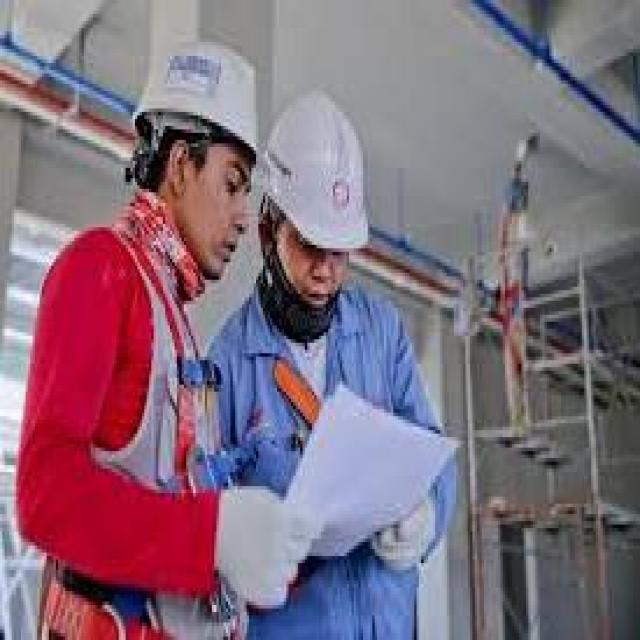Reflective-Jacket: (9, 206, 230, 619)
Safety-Helmet: (261, 77, 379, 266), (123, 32, 268, 172)
